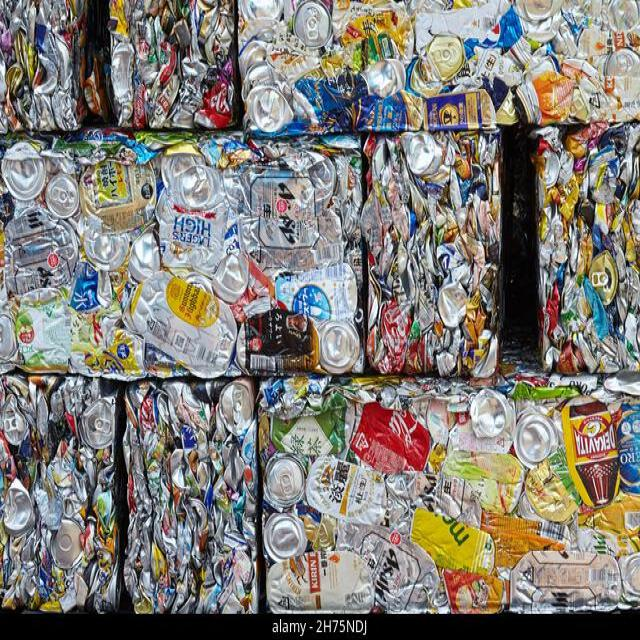metal: (11, 7, 617, 606)
